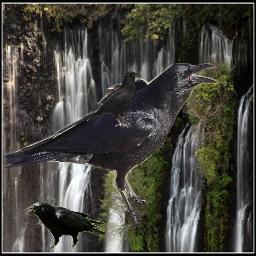Crow: (3, 62, 218, 229), (23, 202, 105, 249), (87, 70, 140, 128)
